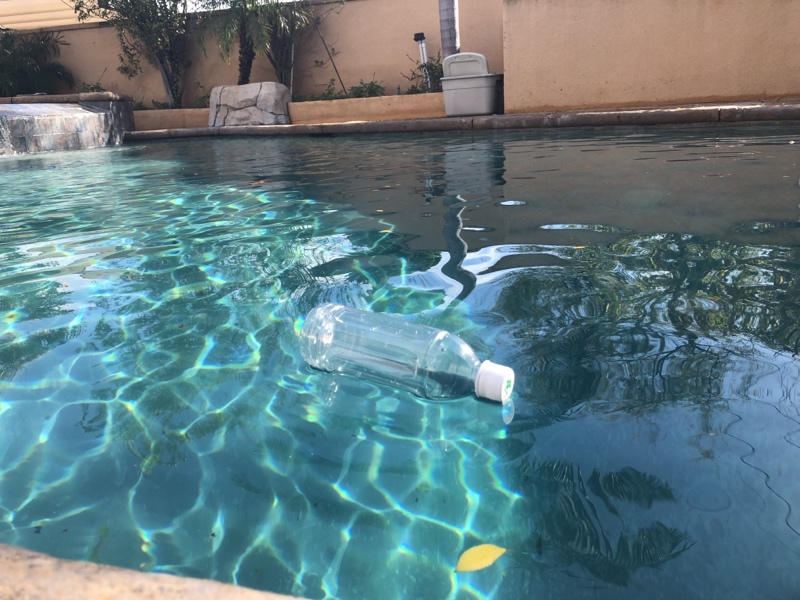Plastic Bottle: (295, 304, 519, 408)
